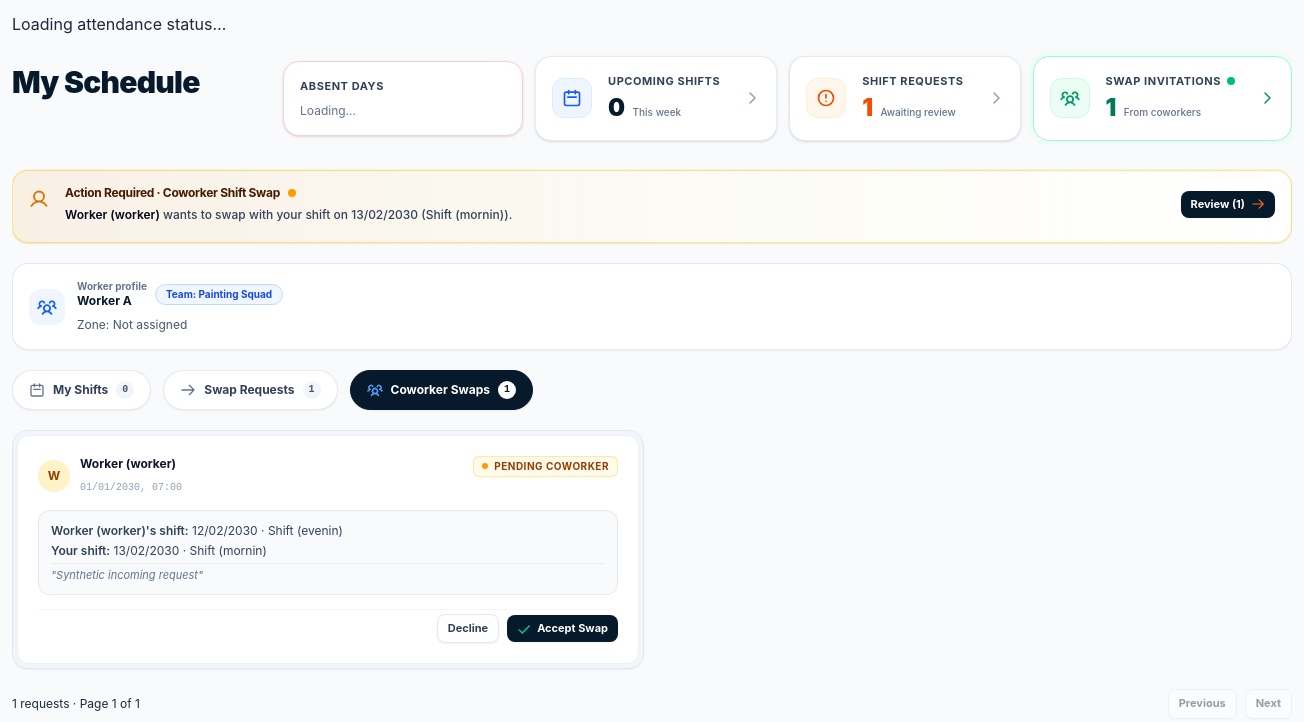
Test: shows coworker confirmation failure without removing the pending request
Expected: the text "Worker (worker)'s shift: 12/02/2030 · Shift (evenin)" is shown, [51, 523, 343, 538]
Expected: the text "Your shift: 13/02/2030 · Shift (mornin)" is shown, [51, 543, 267, 558]
What coordinates should you click on to do the following:
click the button "Accept Swap"
I would click on:
 (563, 629)
Its box is [507, 615, 618, 642].
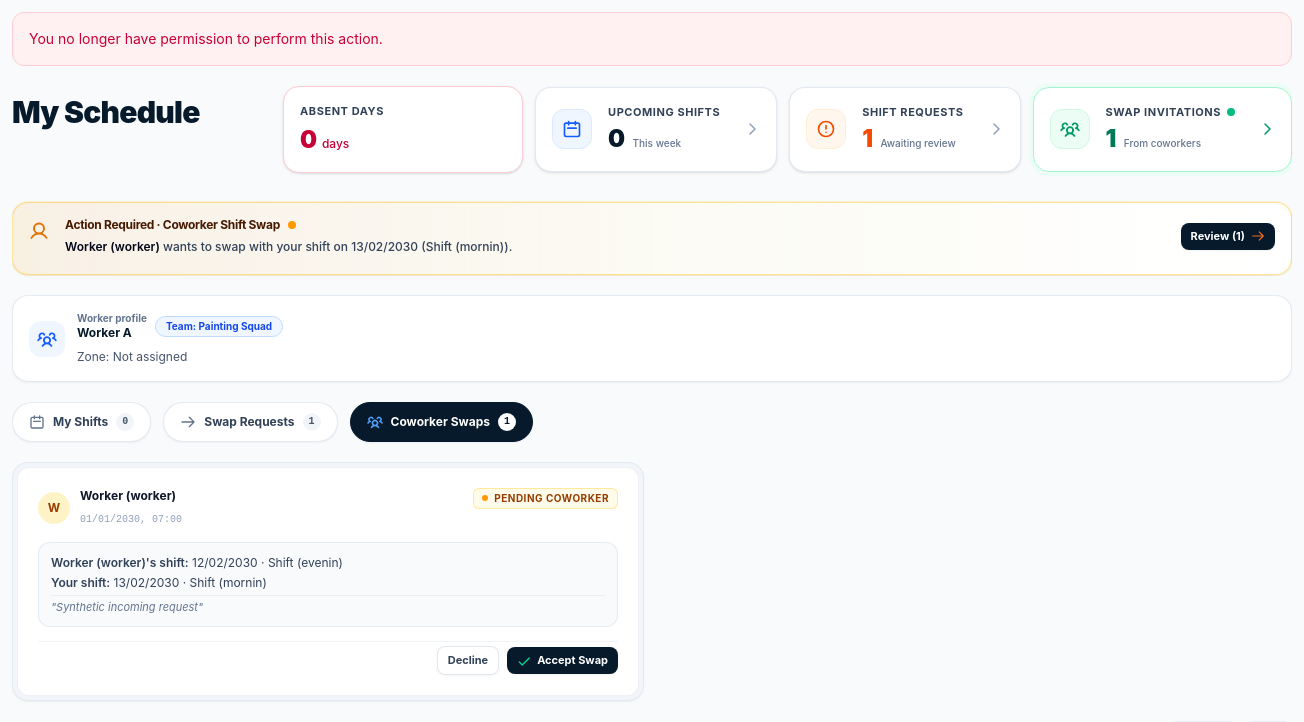
Expected: the button "Accept Swap" is shown, [507, 647, 618, 674]
Expected: the text "You no longer have permission to perform this action." is shown, [12, 12, 1292, 66]
